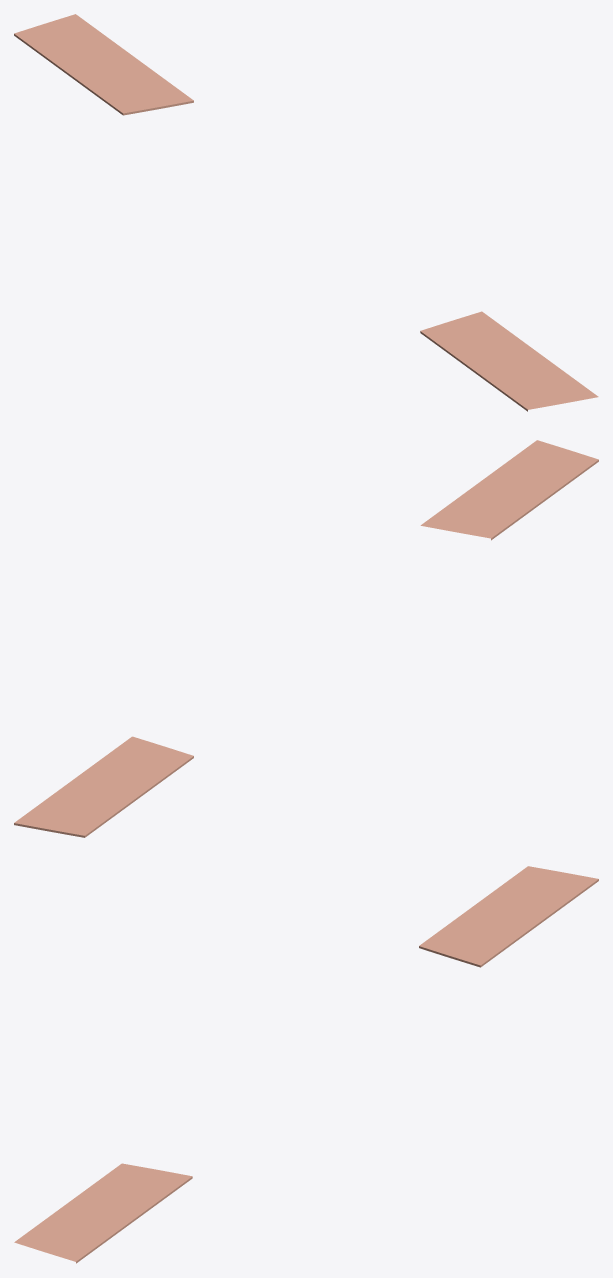
Rendered from HULLS, INTERNALS, ETC.__steering shelf concepts__P&S rudder shelf.glb.
The picture shows the model from 3 angles, top to bottom: view 1: azimuth 30°, elevation 25°; view 2: azimuth 150°, elevation 25°; view 3: azimuth 330°, elevation 25°; orthographic projection.
Parts seen in each view (by area): view 1: P&S rudder shelf; view 2: P&S rudder shelf; view 3: P&S rudder shelf.
Boxes of the visible parts, box(x1,y1,x2,y2) form: P&S rudder shelf: box(14, 14, 598, 411); P&S rudder shelf: box(14, 440, 598, 837); P&S rudder shelf: box(14, 866, 598, 1263).
Bounding box in the file's own units: 0.4318 × 0.0127 × 5.9.
